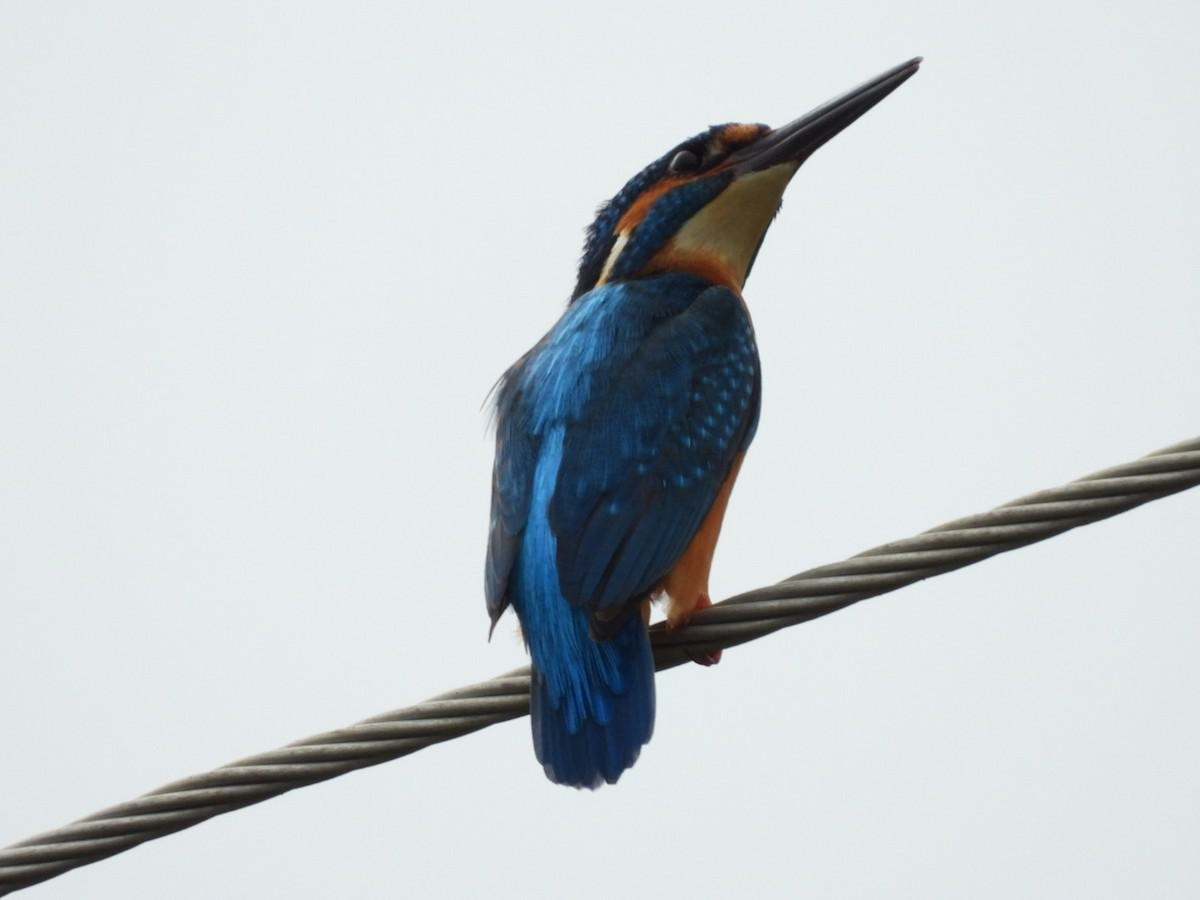kingfisher: (489, 60, 934, 789)
